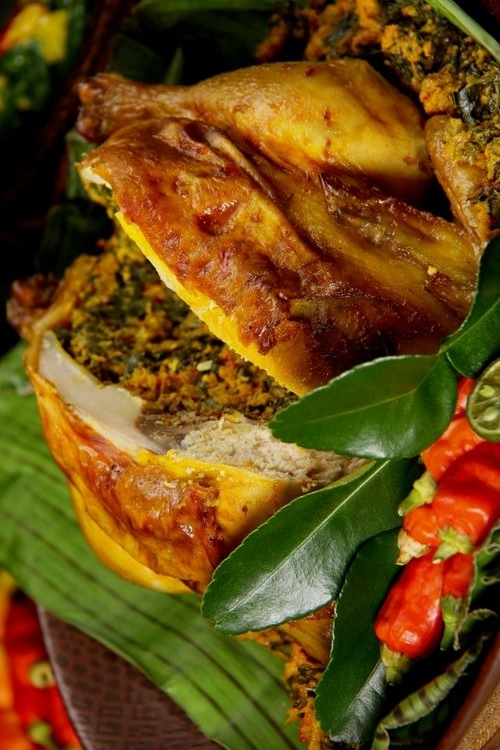ayam_betutu: (27, 62, 442, 350)
